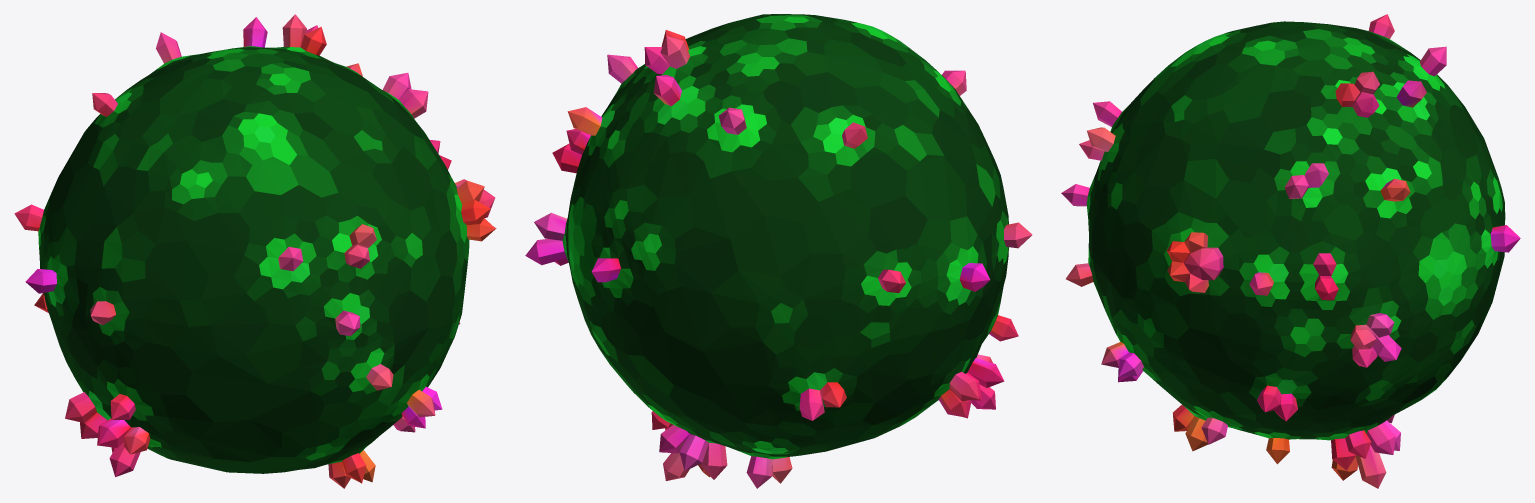
Rendered from Crystal_planet_12.fbx.
3 views of the same model, side by side, from view 1: azimuth 30°, elevation 25°; view 2: azimuth 150°, elevation 25°; view 3: azimuth 270°, elevation 25° (orthographic). The views are drawn at different scales.
Visible parts, largest first — view 1: file6; view 2: file6; view 3: file6.
Boxes of the visible parts, box(x1,y1,x2,y2) form: file6: box(14, 14, 496, 488); file6: box(525, 14, 1032, 488); file6: box(1061, 14, 1520, 488).
Size of the model in its own units: 2.29 by 2.22 by 2.2.
